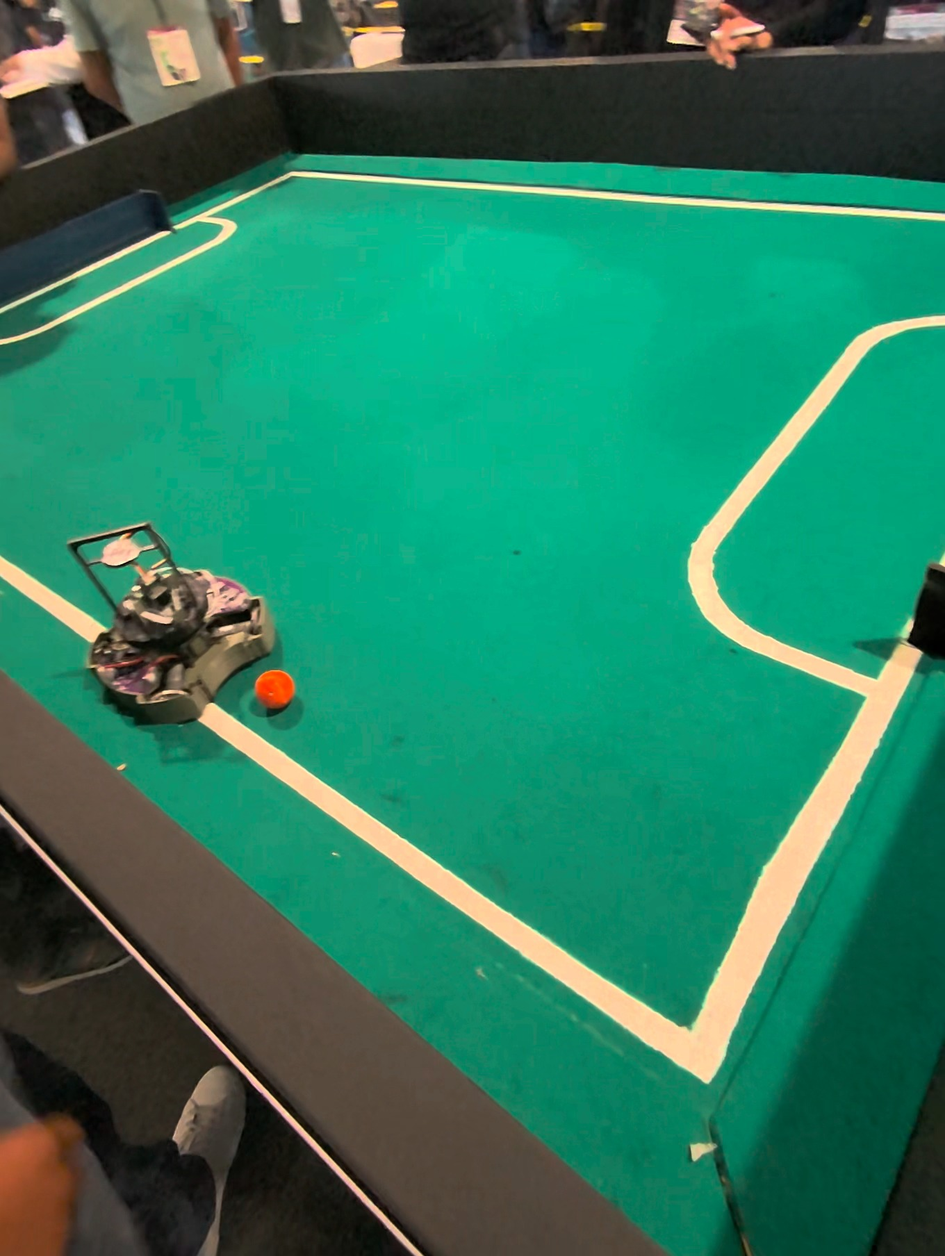Robot: (92, 543, 279, 733)
pelota: (255, 671, 296, 714)
